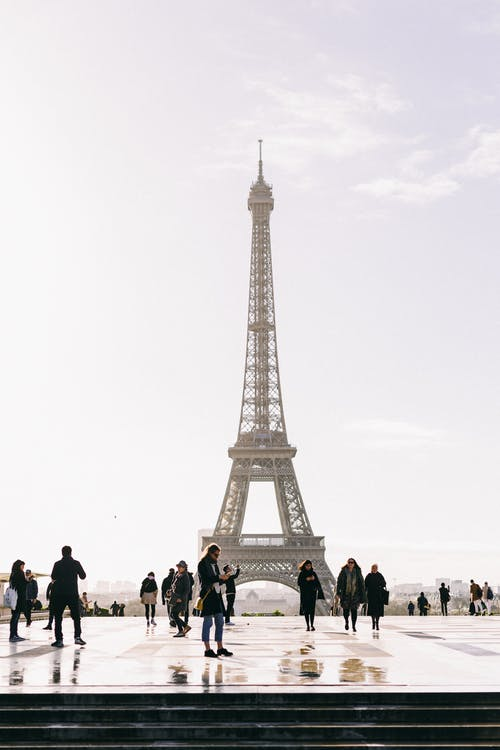eiffel tower: (185, 112, 346, 610)
